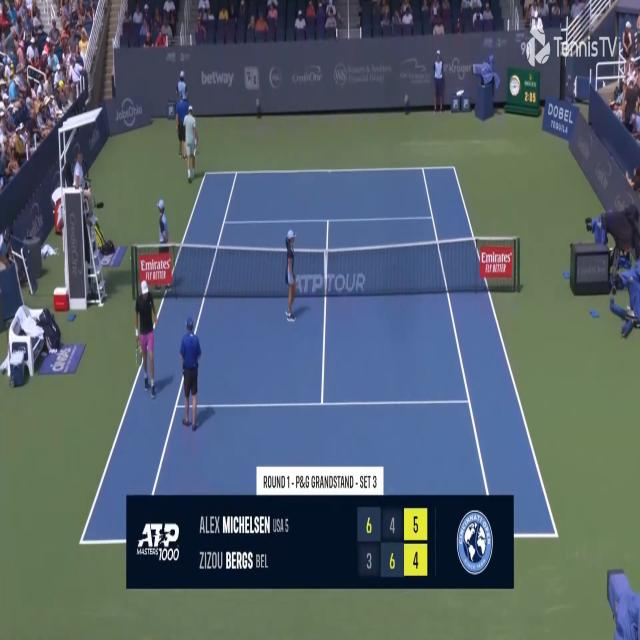tennis-player: (132, 275, 158, 400), (182, 100, 200, 185)
